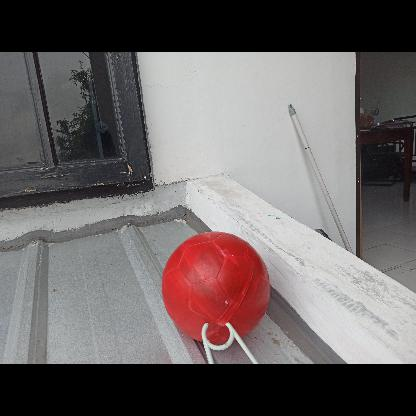red_ball: (160, 232, 271, 344)
